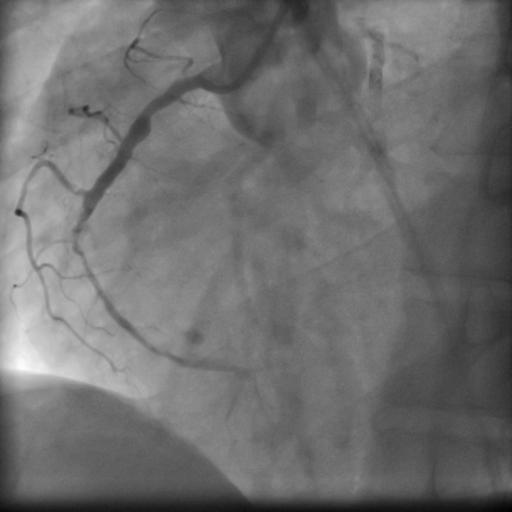Stenosis: (138, 95, 160, 122)
